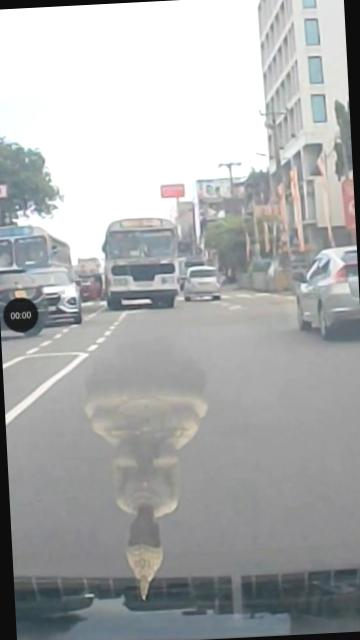illegal overtaking: (92, 208, 190, 318)
